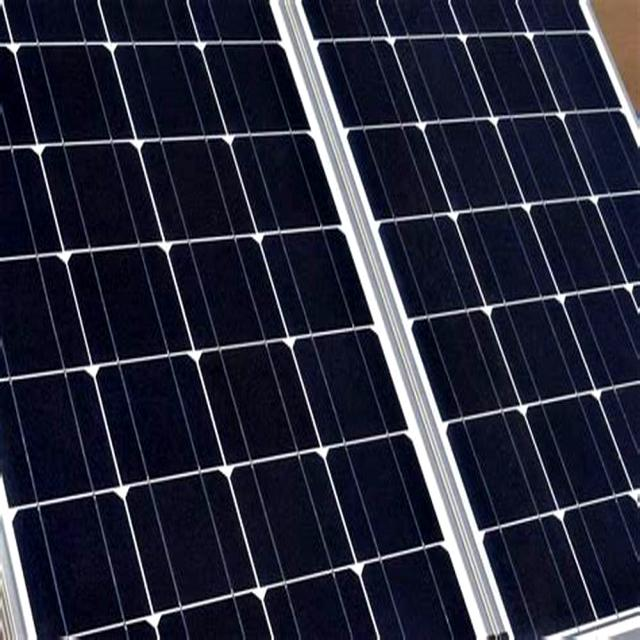crack: (0, 1, 484, 640), (279, 3, 640, 640)
